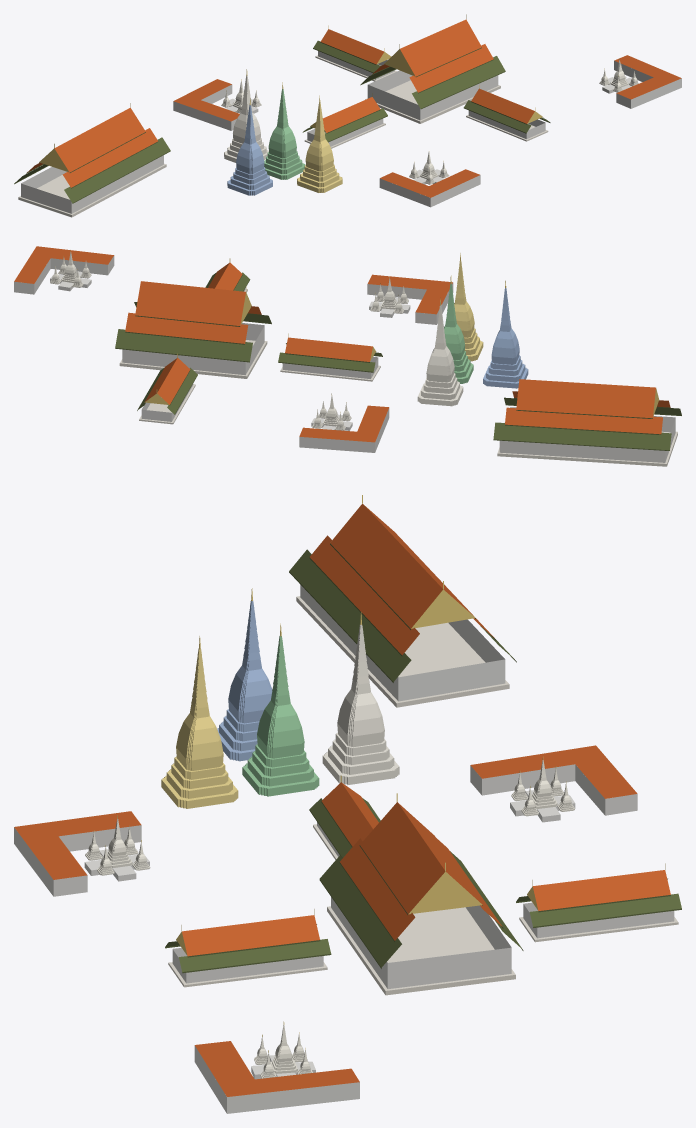
File: watpho.glb
The picture shows the model from 3 angles, top to bottom: view 1: azimuth 30°, elevation 25°; view 2: azimuth 150°, elevation 25°; view 3: azimuth 270°, elevation 25°; orthographic projection. The views are drawn at different scales.
Visible parts, largest first — view 1: watpho; view 2: watpho; view 3: watpho.
Part boxes in pixels (left/top/right/bottom): watpho: left=14, top=14, right=681, bottom=217; watpho: left=14, top=246, right=681, bottom=466; watpho: left=14, top=495, right=681, bottom=1113.
Bounding box in the file's own units: 307 × 42.01 × 162.
